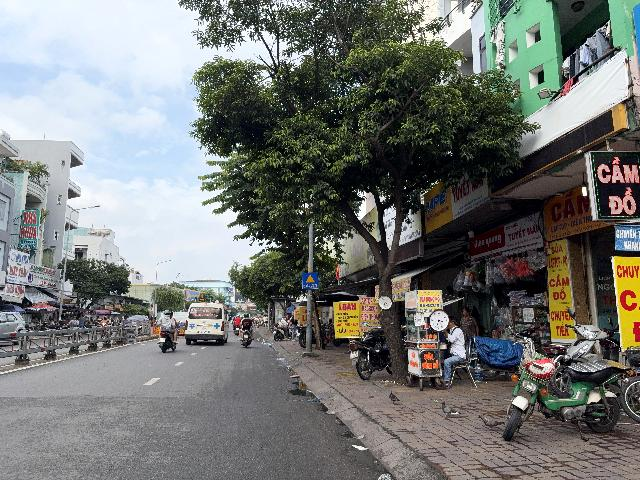khu-vuc-cho-phia-truoc: (302, 272, 319, 289)
